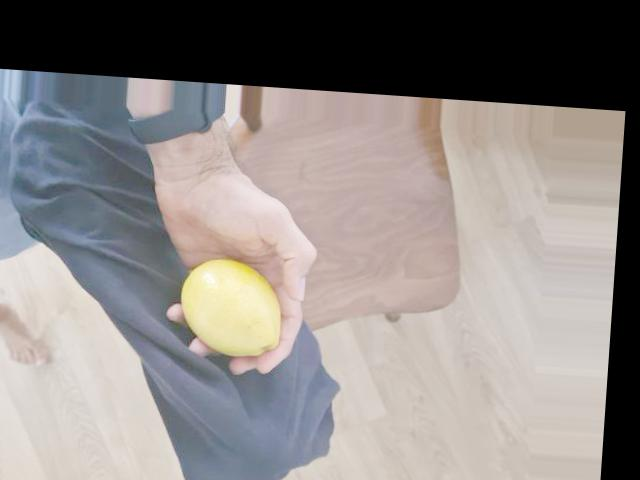lemon: (176, 260, 285, 360)
